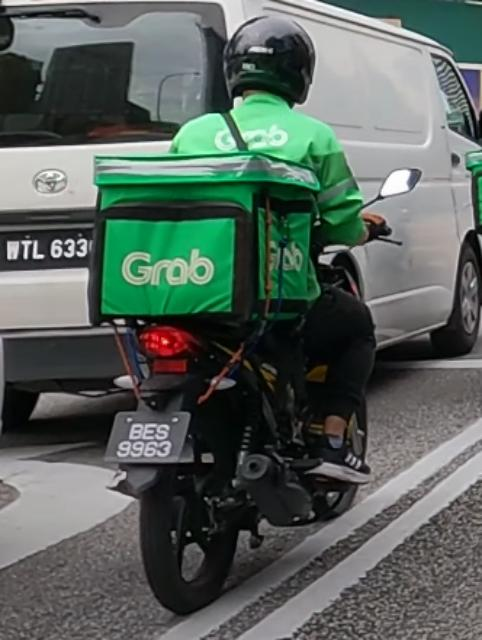License_Plate: (103, 410, 191, 465)
motorcycle: (87, 150, 423, 616)
